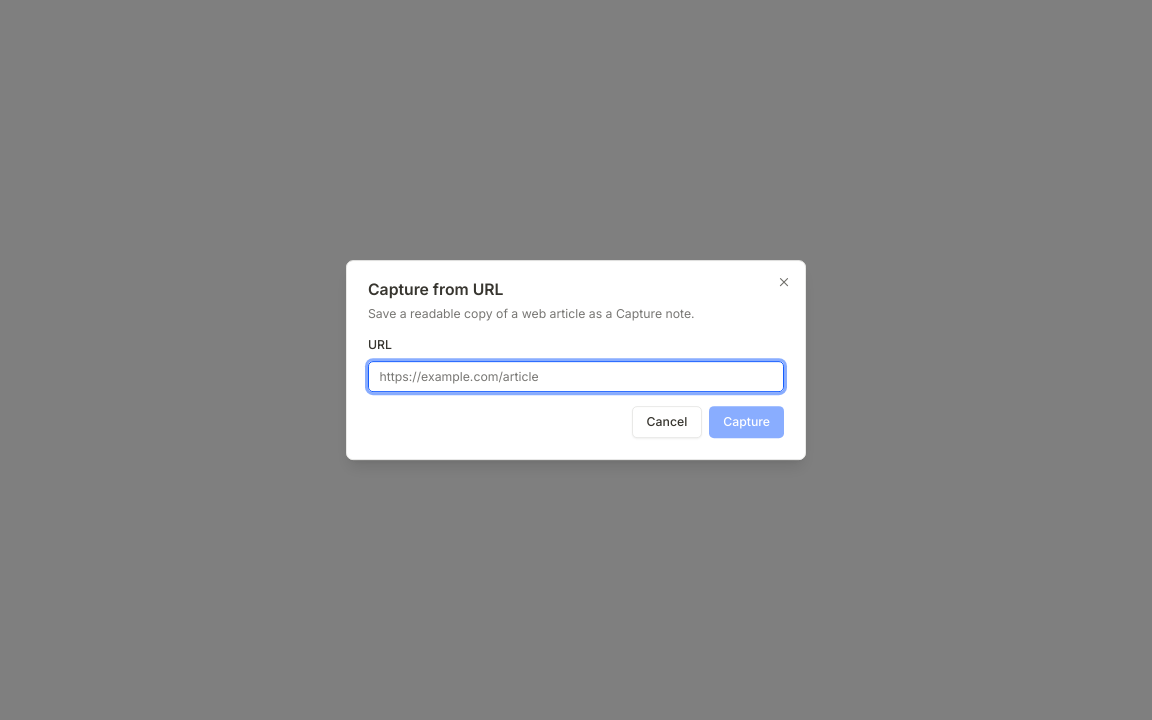
Test: CaptureFromUrlDialog › enables the button once a URL is typed
Type "https://example.com/post" into the field labelled "URL" at [576, 377], box [368,361,784,392]
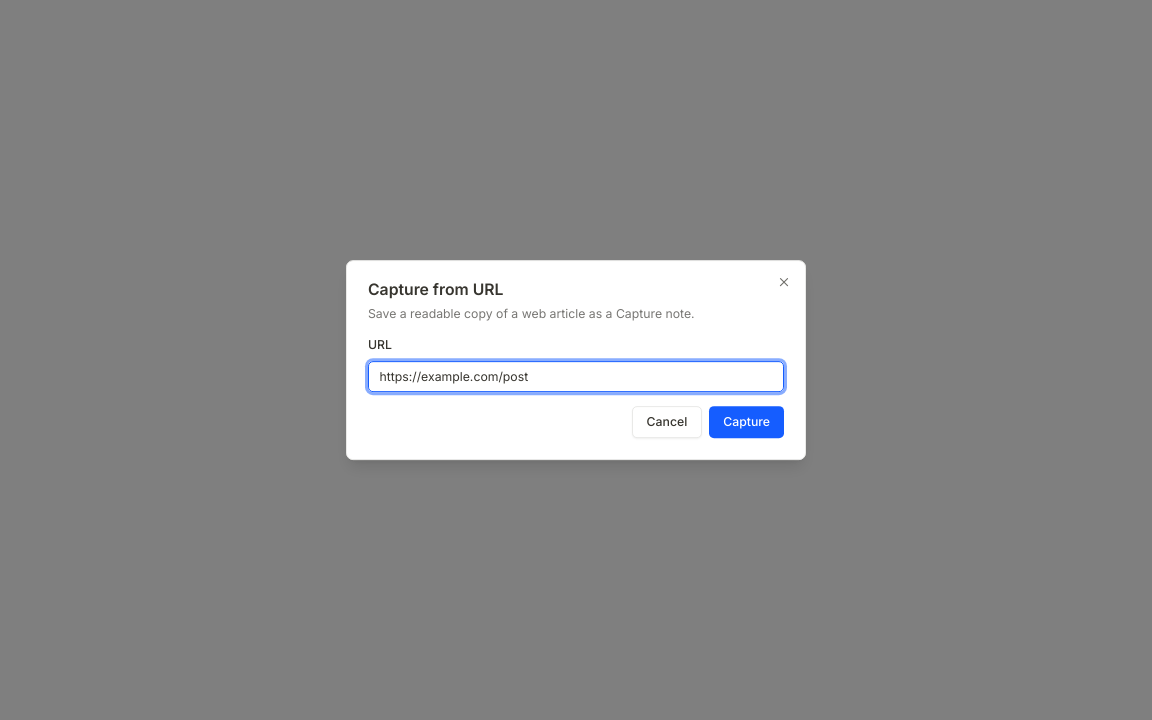
Expected: the button "Capture" is enabled, [709,406,784,438]
